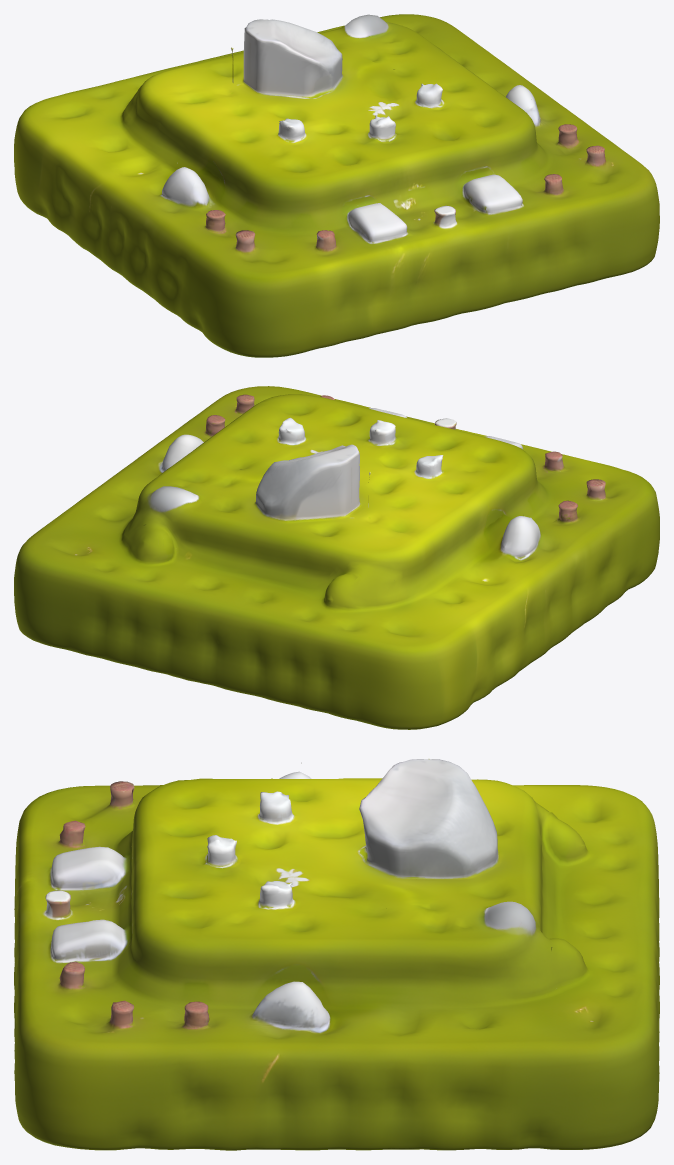
The model's file is clean-platform.glb.
3 views of the same model, one above another, from view 1: azimuth 30°, elevation 25°; view 2: azimuth 150°, elevation 25°; view 3: azimuth 270°, elevation 25° (orthographic). The views are drawn at different scales.
Visible parts, largest first — view 1: model; view 2: model; view 3: model.
Boxes of the visible parts, x1,y1,x2,y2 form: model: (14,14,659,357); model: (14,386,659,729); model: (14,759,659,1150).
Size of the model in its own units: 1.9 by 0.7342 by 1.89.
Materials: 1 (1 with a texture image).
